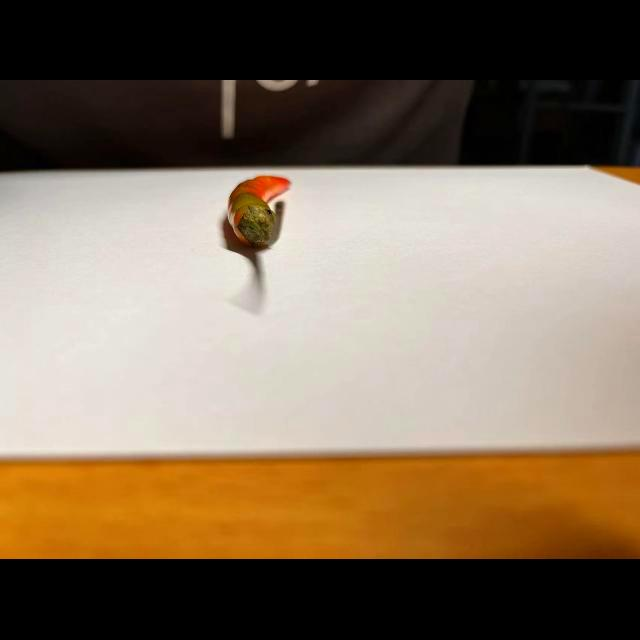chili_pepper: (220, 179, 308, 254)
